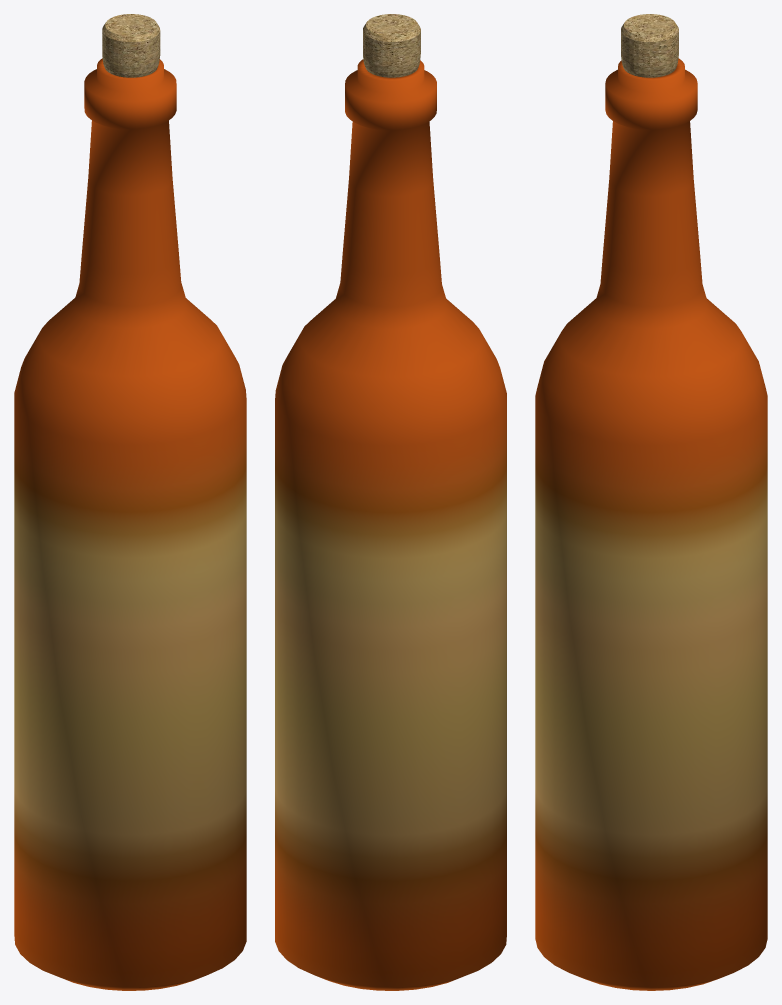
The model's file is wine bottle 2.fbx.
3 views of the same model, side by side, from view 1: azimuth 30°, elevation 25°; view 2: azimuth 150°, elevation 25°; view 3: azimuth 270°, elevation 25° (orthographic).
Parts seen in each view (by area): view 1: wine bottle.001; view 2: wine bottle.001; view 3: wine bottle.001.
Boxes of the visible parts, x1,y1,x2,y2 form: wine bottle.001: (14, 14, 246, 990); wine bottle.001: (275, 14, 506, 990); wine bottle.001: (535, 14, 767, 990).
Size of the model in its own units: 320 by 1407 by 320.
Materials: 1 (1 with a texture image).
